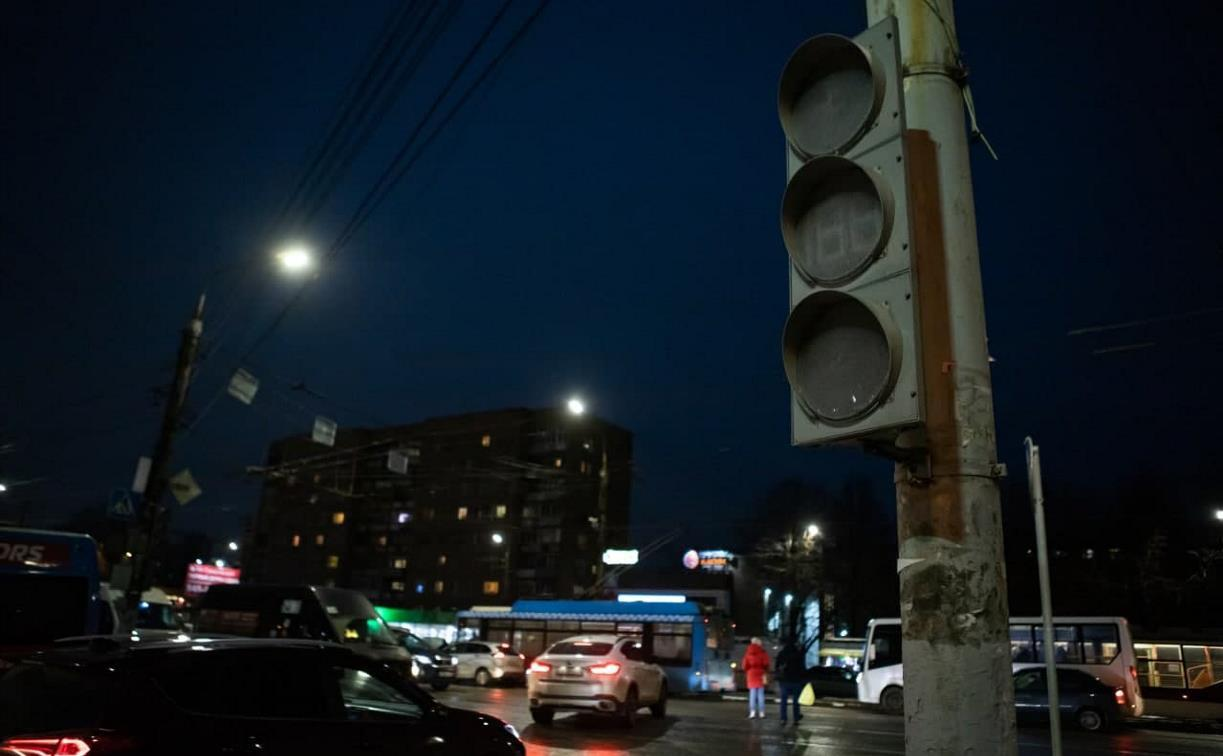off traffic light: (780, 22, 924, 444)
